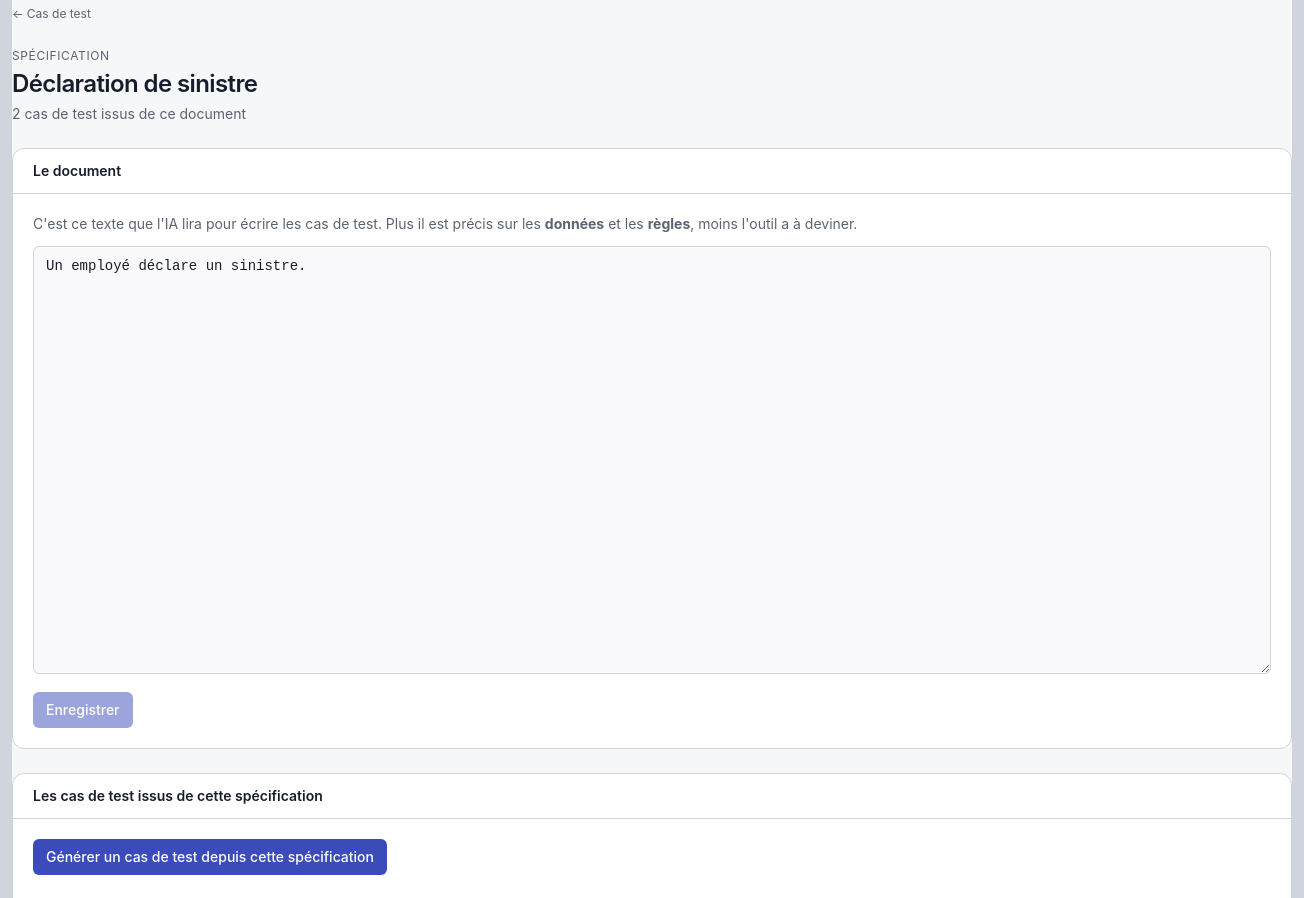
Test case: la fiche de la spécification › enregistre le document SANS rien générer ni dépenser
Replace the text in the text box with "Nouveau texte" at (652, 460), box [33,246,1271,674]
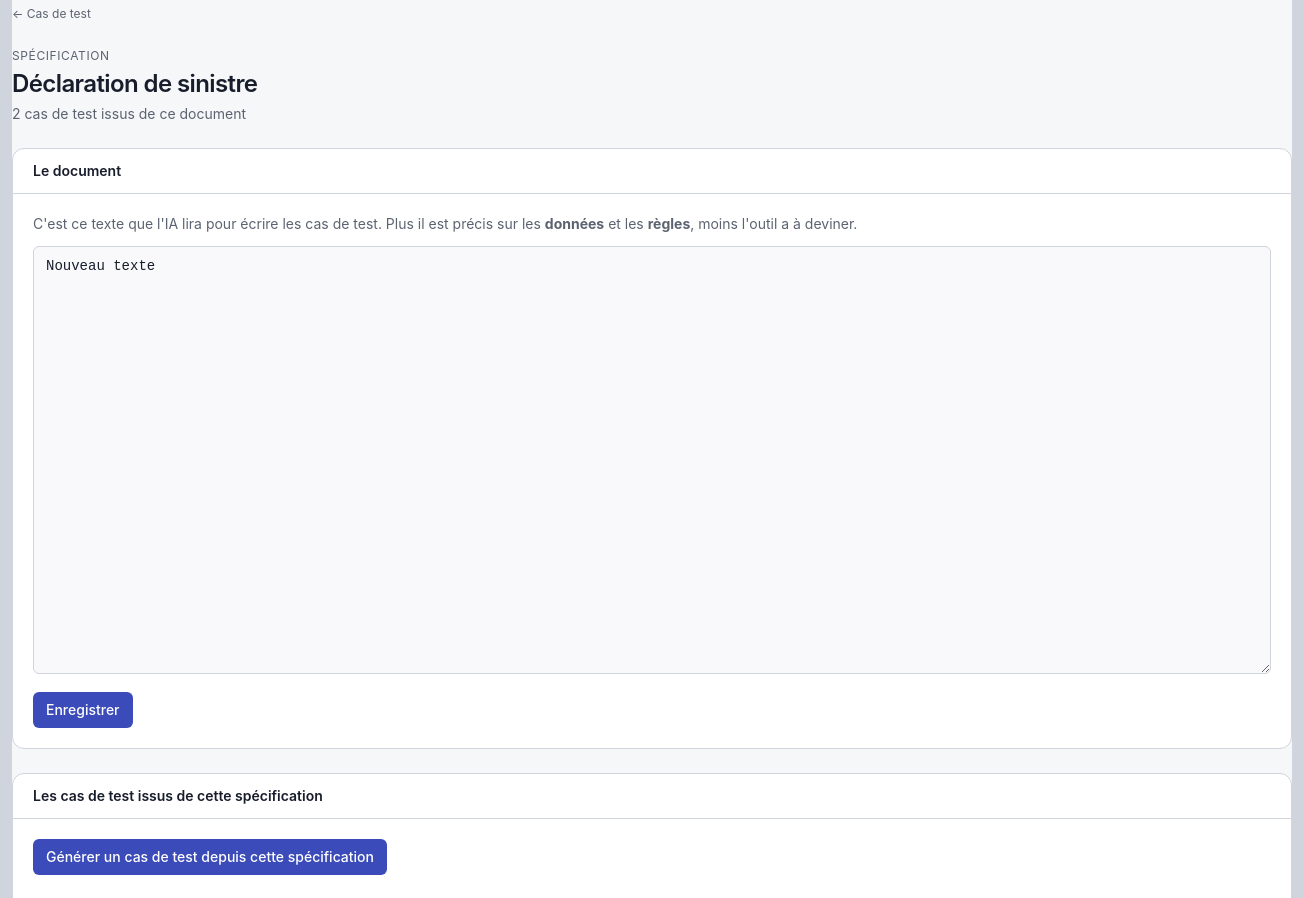
Click the button "Enregistrer" at (83, 710), box [33,692,132,728]
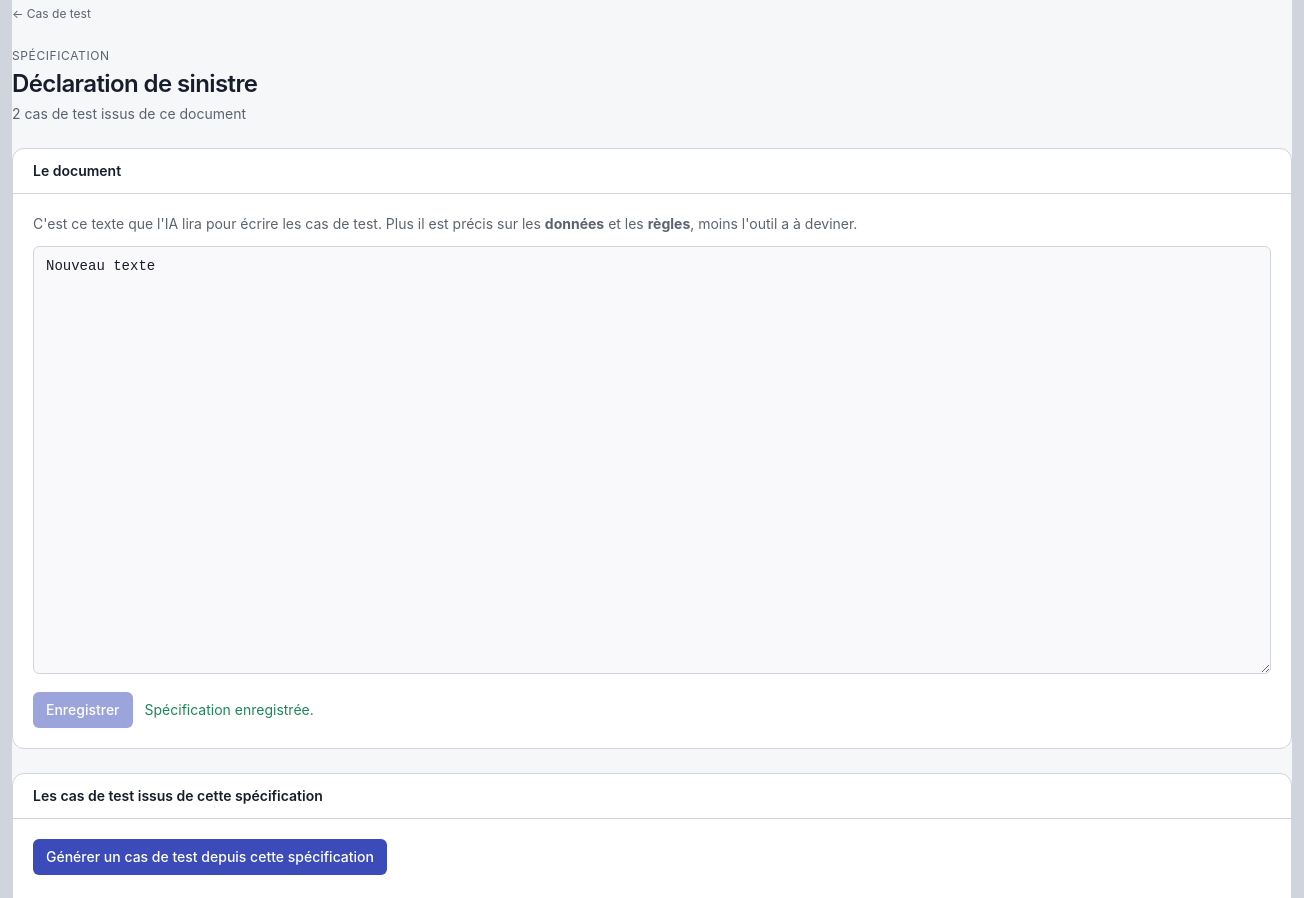
Now the text "Spécification enregistrée." is shown, box [144,700,314,720]
